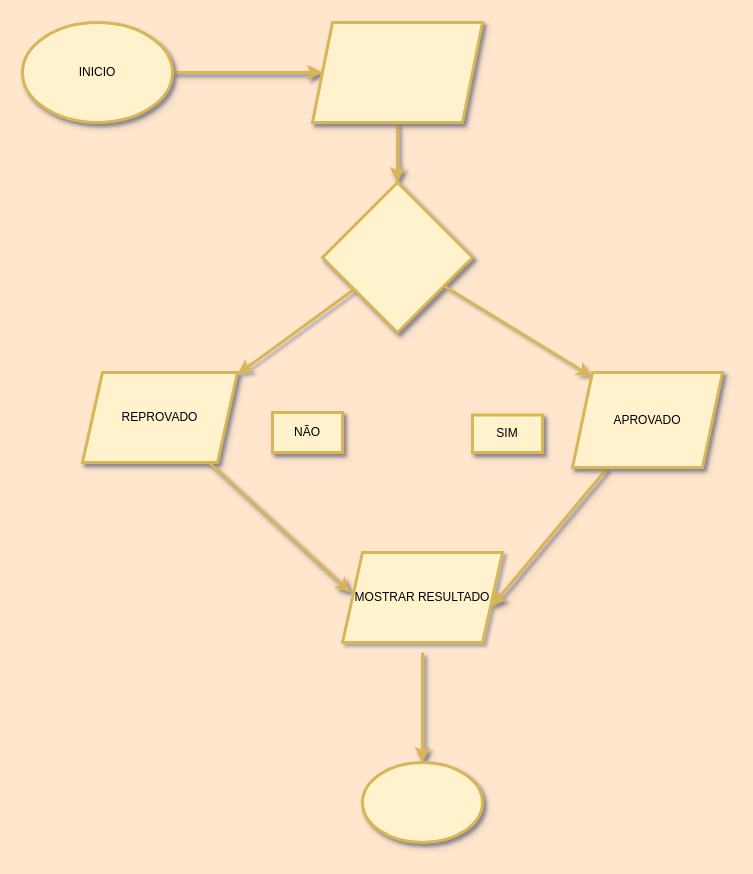
Image size: 753x874. Some labels were removed from this diagram. Each missing label, with the centre of its shape:
"fim" belongs at pixel 423 803.
"LER NOTAS 1,2" belongs at pixel 398 73.
"NOTA >= 7" belongs at pixel 398 258.
